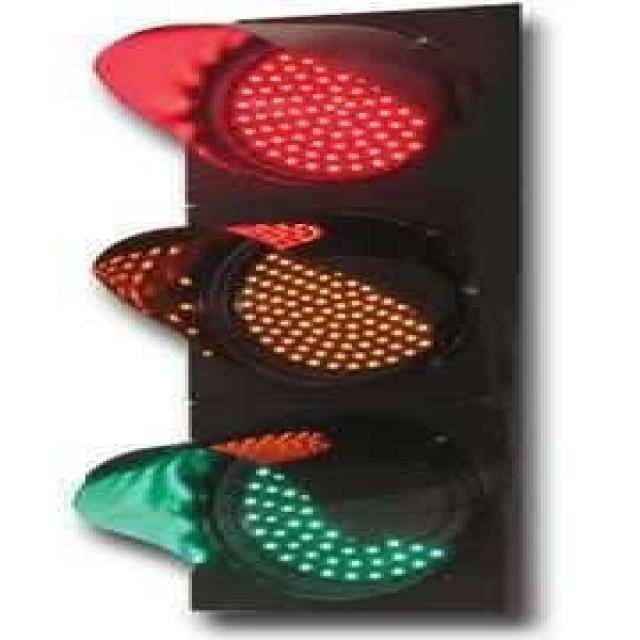Traffic Light -Green-: (65, 404, 545, 621)
Traffic Light -Red-: (83, 15, 574, 203)
Traffic Light -Yellow-: (76, 222, 556, 388)
